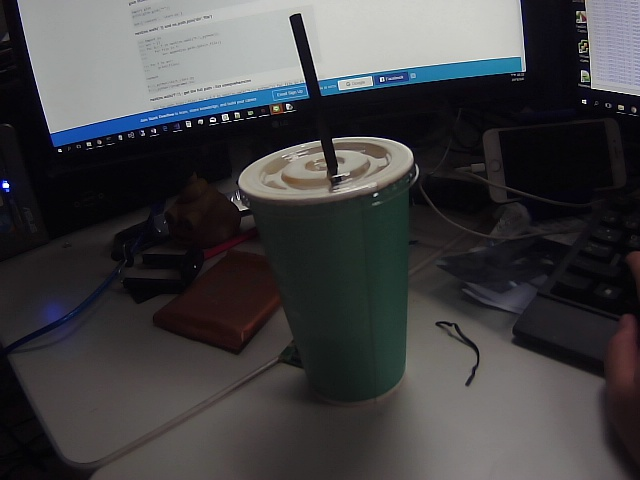beverage: (212, 7, 458, 410)
